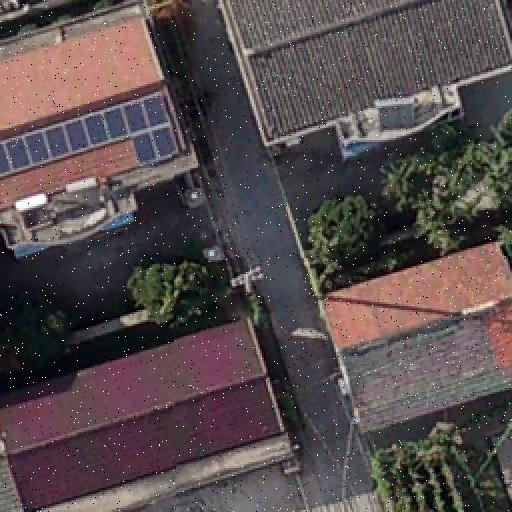solar-panel: (0, 87, 187, 197)
